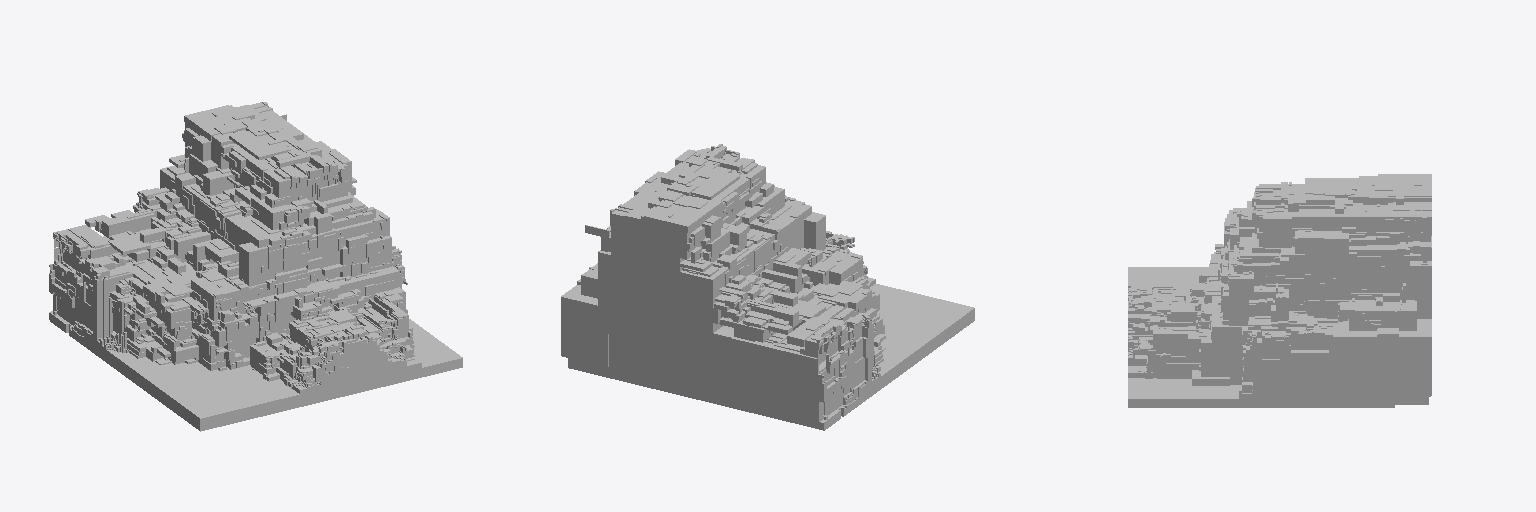
The model's file is lvl1-0.obj.
3 views of the same model, side by side, from view 1: azimuth 30°, elevation 25°; view 2: azimuth 150°, elevation 25°; view 3: azimuth 270°, elevation 25° (orthographic).
Parts seen in each view (by area): view 1: object 1; view 2: object 1; view 3: object 1.
Part boxes in pixels (bbox=[...]): object 1: bbox=[49, 102, 462, 431]; object 1: bbox=[561, 144, 974, 430]; object 1: bbox=[1128, 174, 1431, 407].
Size of the model in its own units: 25.6 by 16.4 by 25.6.